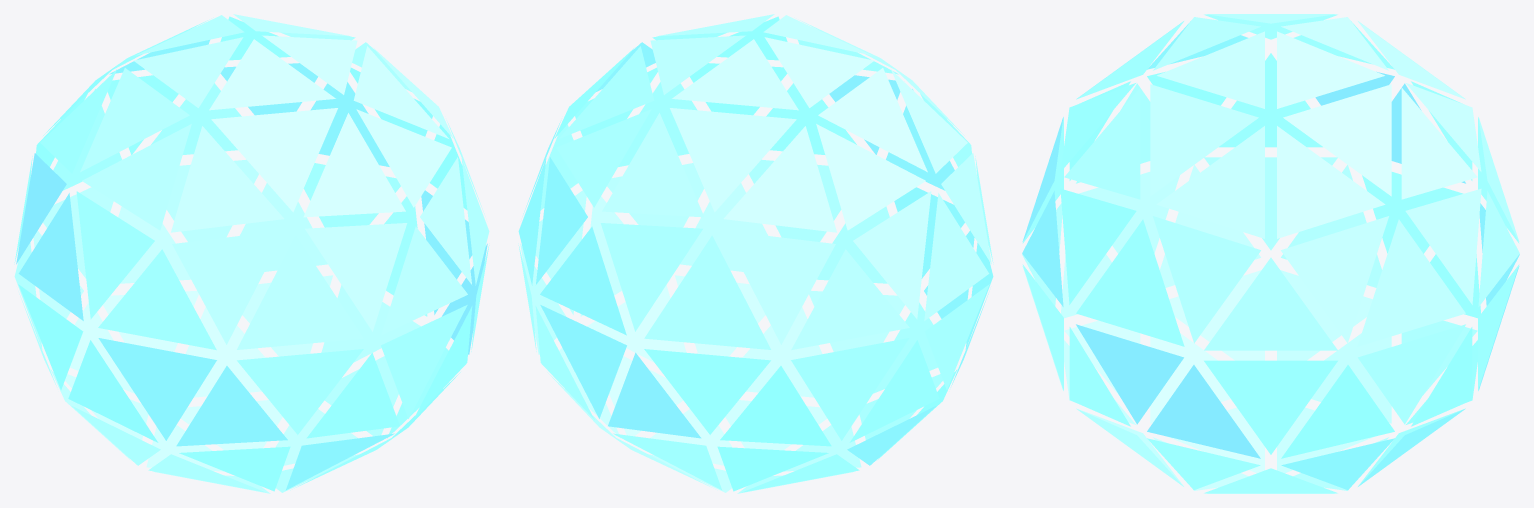
The model's file is shield.glb.
3 renders of one model, left to right at view 1: azimuth 30°, elevation 25°; view 2: azimuth 150°, elevation 25°; view 3: azimuth 270°, elevation 25°, orthographic. The views are drawn at different scales.
Parts seen in each view (by area): view 1: VR_Shield; view 2: VR_Shield; view 3: VR_Shield.
Part boxes in pixels (x1,y1,x2,y2): VR_Shield: [14, 14, 489, 493]; VR_Shield: [518, 14, 993, 493]; VR_Shield: [1022, 14, 1519, 493].
Size of the model in its own units: 1.92 by 2 by 1.99.
